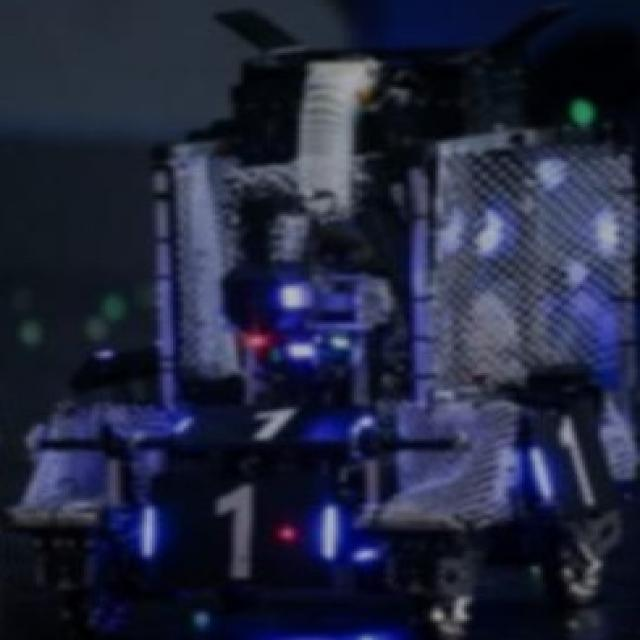B1: (136, 481, 338, 579), (154, 399, 378, 447), (525, 403, 619, 515)
